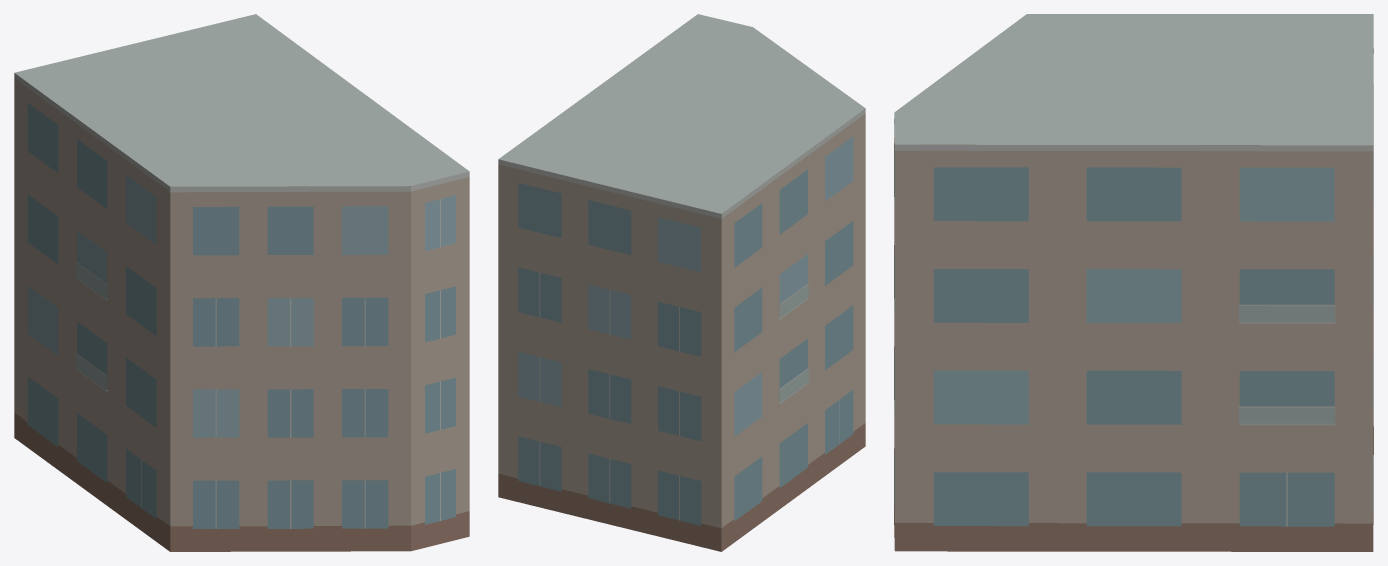
File: survey-upis-32771284.glb
The picture shows the model from 3 angles, left to right: view 1: azimuth 30°, elevation 25°; view 2: azimuth 150°, elevation 25°; view 3: azimuth 270°, elevation 25°; orthographic projection. The views are drawn at different scales.
Parts seen in each view (by area): view 1: survey-upis-32771284.tmp; view 2: survey-upis-32771284.tmp; view 3: survey-upis-32771284.tmp.
Part boxes in pixels (x1,y1,x2,y2): survey-upis-32771284.tmp: (14, 14, 469, 551); survey-upis-32771284.tmp: (498, 14, 865, 551); survey-upis-32771284.tmp: (894, 14, 1373, 551).
Size of the model in its own units: 11.45 by 16.44 by 17.59.
